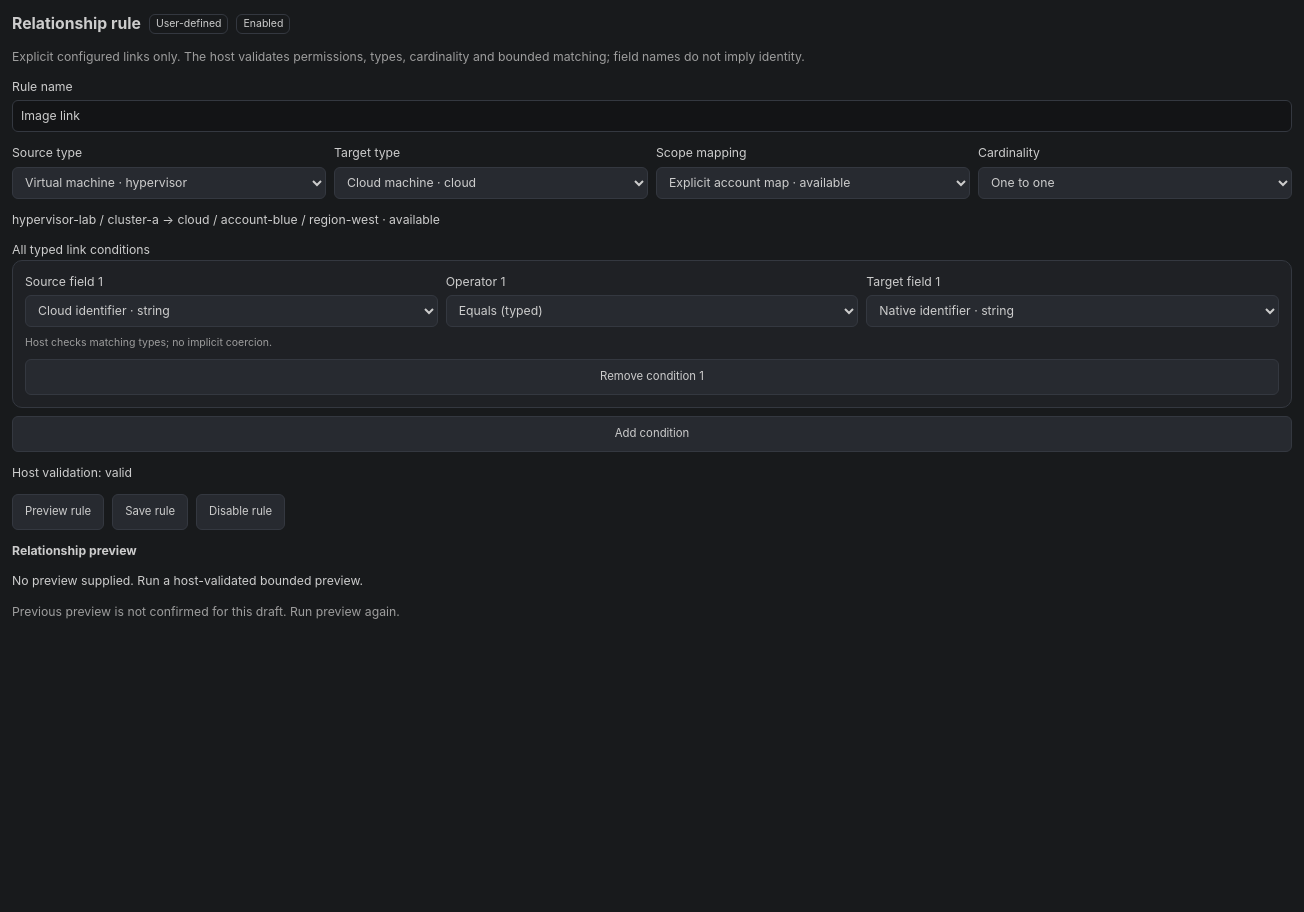
Test: RelationshipRuleEditor › preserves edited draft after failed save and reports failure
The image size is (1304, 912).
Replace the text in the field labelled "Rule name" with "Keep this draft" at x=652, y=116, box [12,100,1292,132]
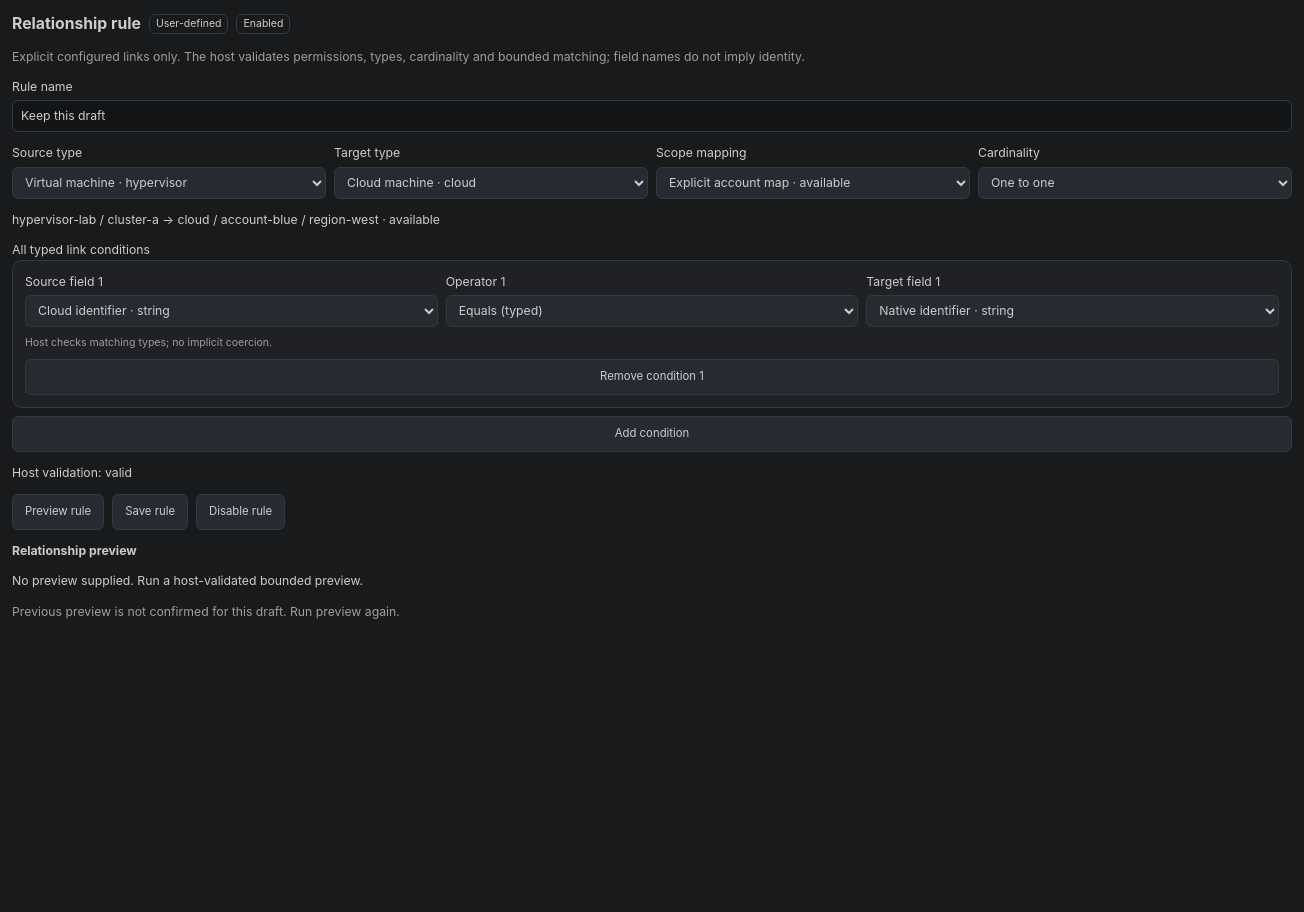
Click the button "Save rule" at x=150, y=512, box [112,494,188,530]
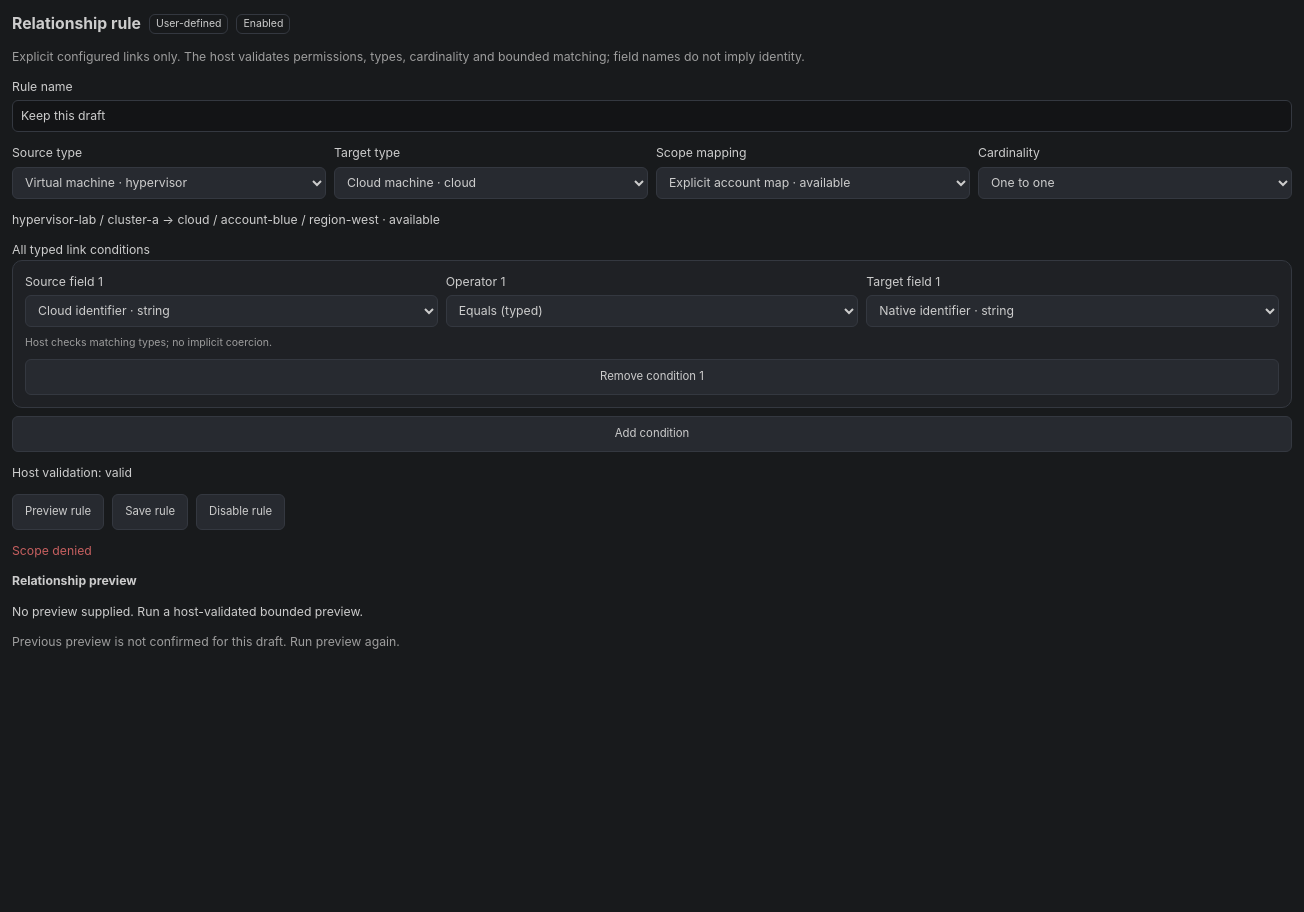
Expected: the message "Scope denied" is shown, [12,543,92,558]
